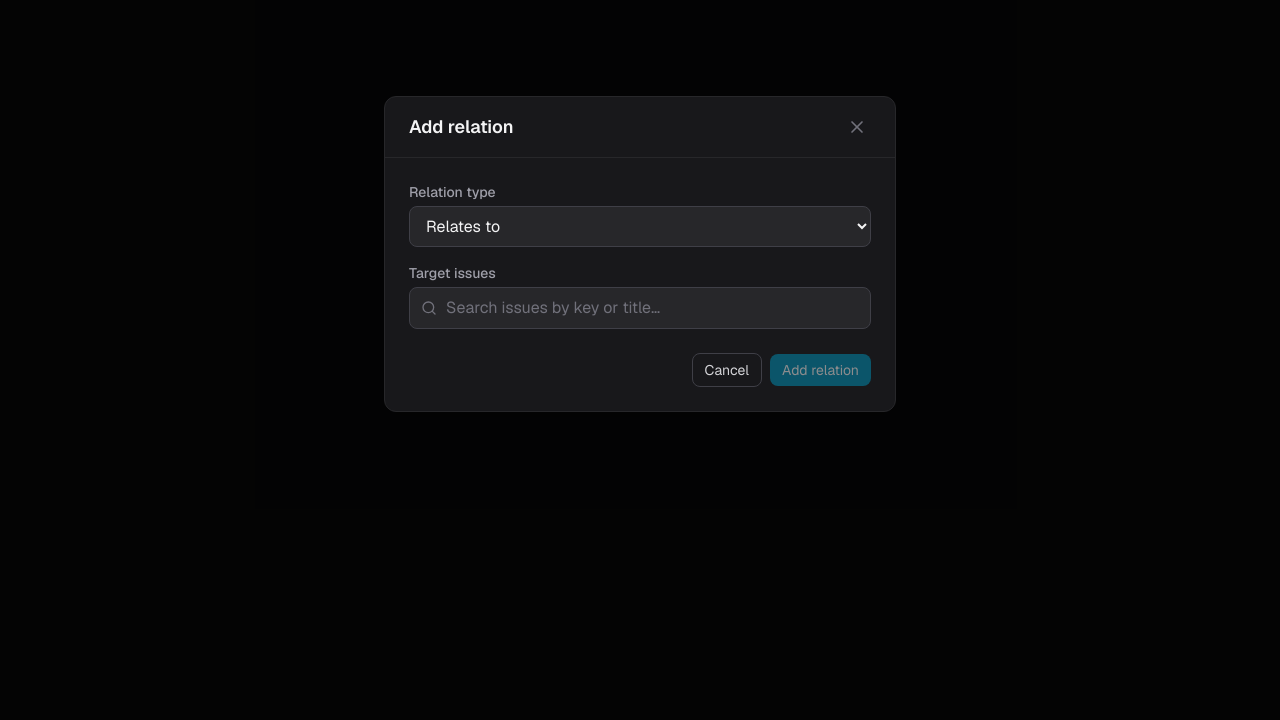
Test: AddRelationModal › renders the friendly message for backend code CYCLE_DETECTED
Type "tar" into the dropdown labelled "Target issues" at (640, 308), box 409,287 -> 871,329
Wait 300 ms
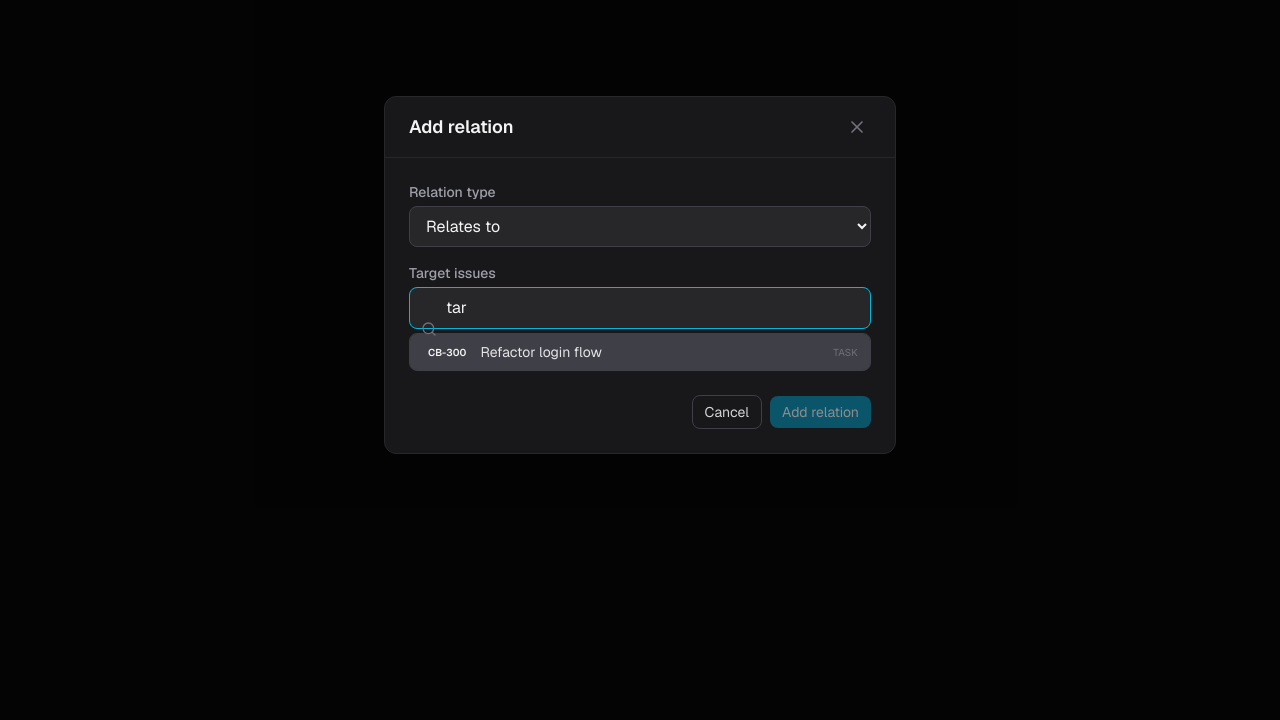
Press the mouse on the option "CB-300 Refactor login flow TASK" at (447, 352), box 410,334 -> 870,370
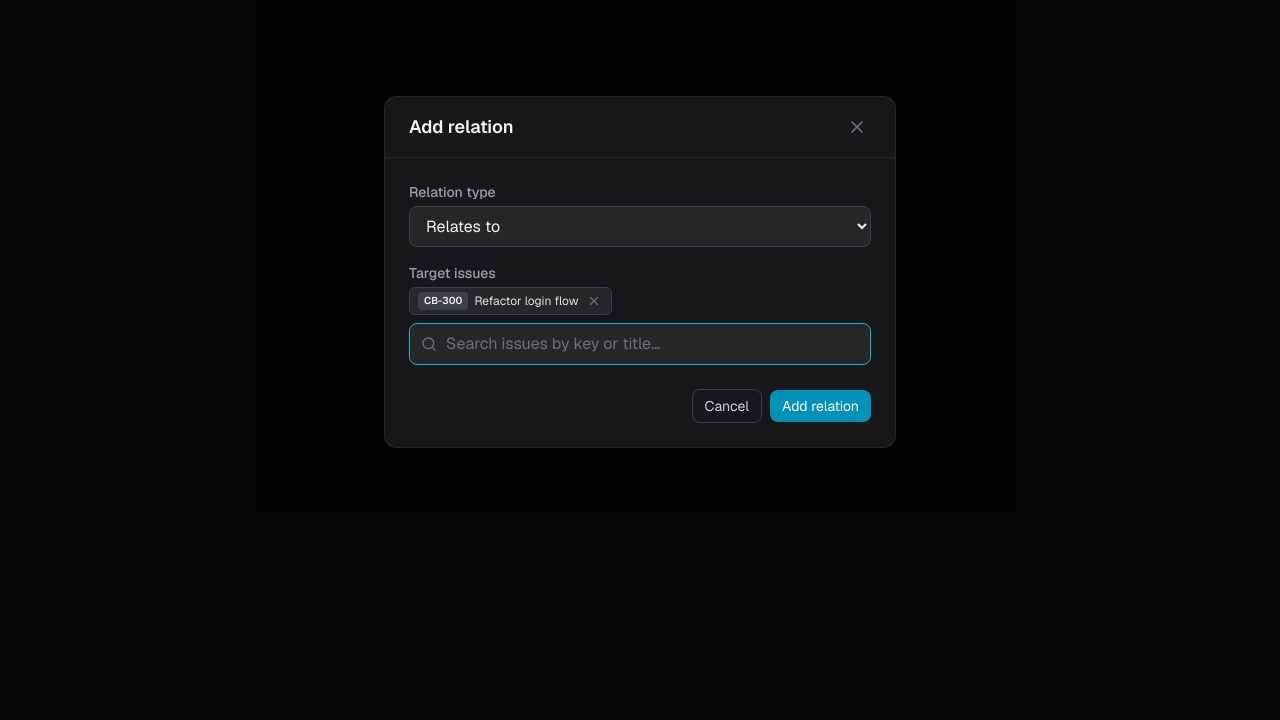
Click the button "Add relation" at (820, 406), box 770,390 -> 871,422
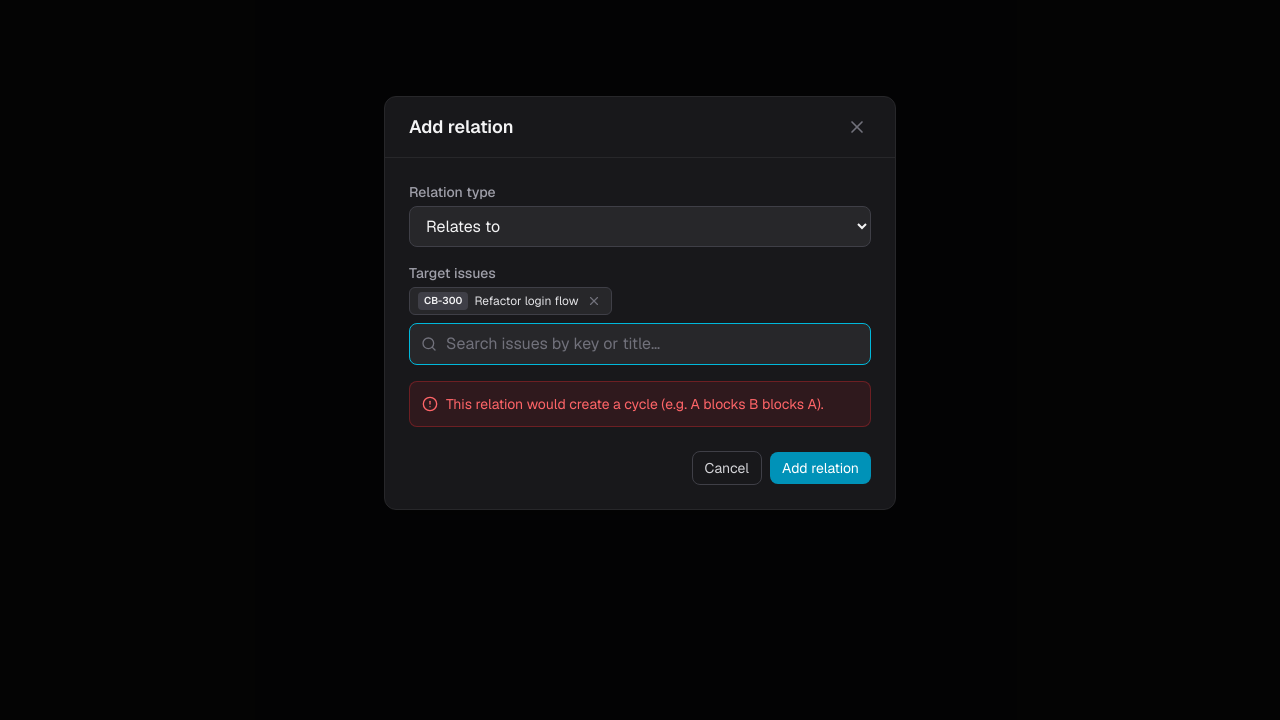
Check: the text "This relation would create a cycle (e.g. A blocks B blocks A)." is shown, box 446,394 -> 824,414
